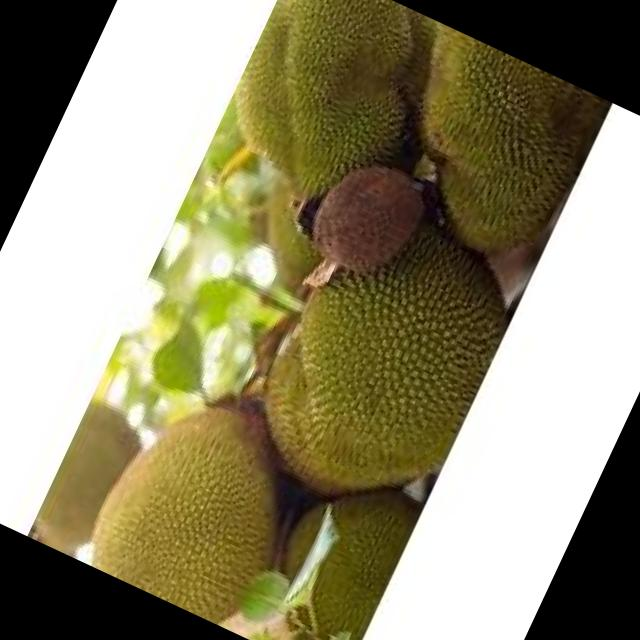Fruit: (207, 176, 537, 553), (329, 12, 612, 290), (65, 348, 338, 636), (200, 0, 469, 239)
